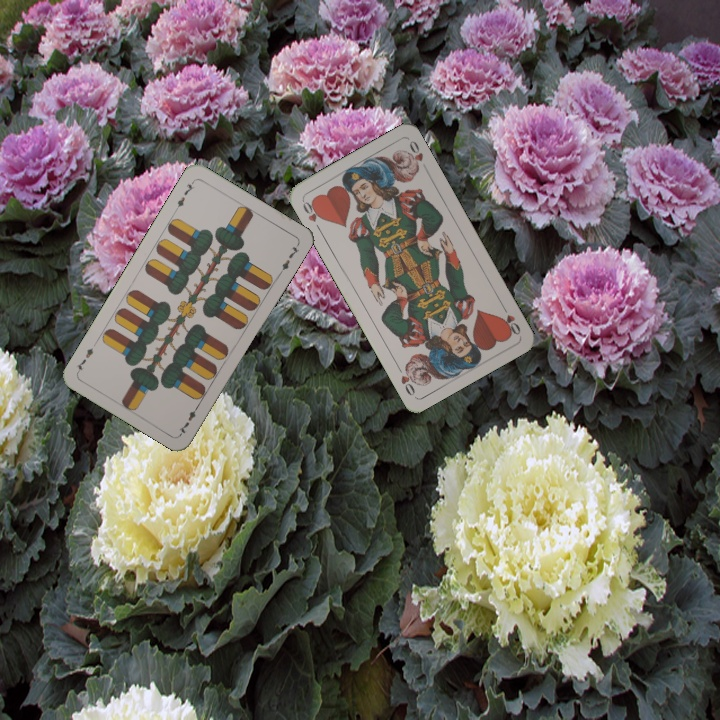E7: (174, 400, 202, 437), (171, 176, 197, 213)
HO: (299, 197, 325, 234), (498, 300, 523, 338)
